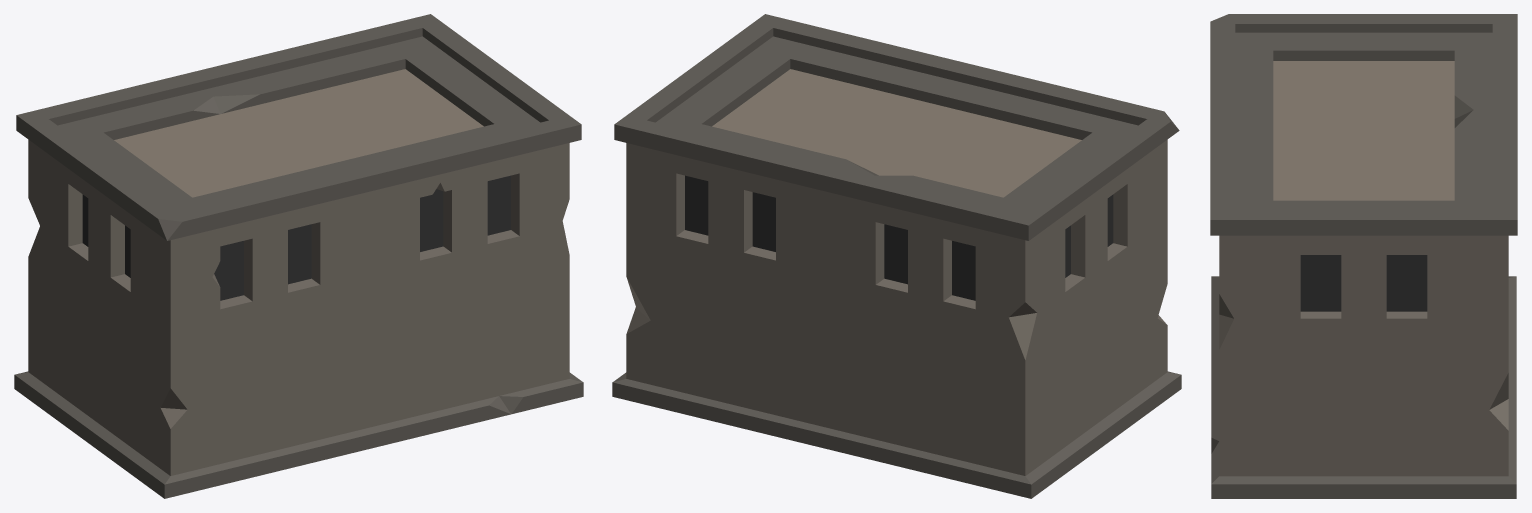
Rendered from SM_Bld_Fort_Room_02.glb.
3 renders of one model, left to right at view 1: azimuth 30°, elevation 25°; view 2: azimuth 150°, elevation 25°; view 3: azimuth 270°, elevation 25°, orthographic.
Parts seen in each view (by area): view 1: SM_Bld_Fort_Room_02_part00; view 2: SM_Bld_Fort_Room_02_part00; view 3: SM_Bld_Fort_Room_02_part00.
Boxes of the visible parts, bbox=[...] form: SM_Bld_Fort_Room_02_part00: bbox=[14, 14, 583, 498]; SM_Bld_Fort_Room_02_part00: bbox=[612, 14, 1181, 498]; SM_Bld_Fort_Room_02_part00: bbox=[1210, 14, 1517, 498].
Bounding box in the file's own units: 10.61 × 6.61 × 6.62.
Materials: 1 (1 with a texture image).
